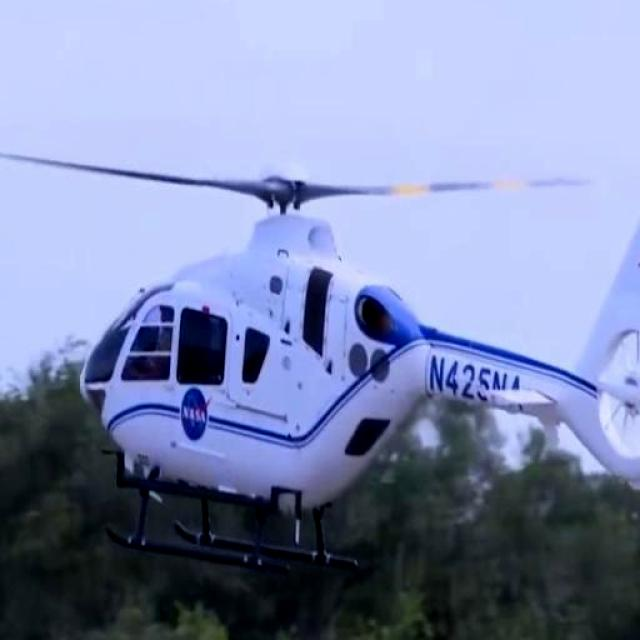drone: (62, 104, 640, 606)
